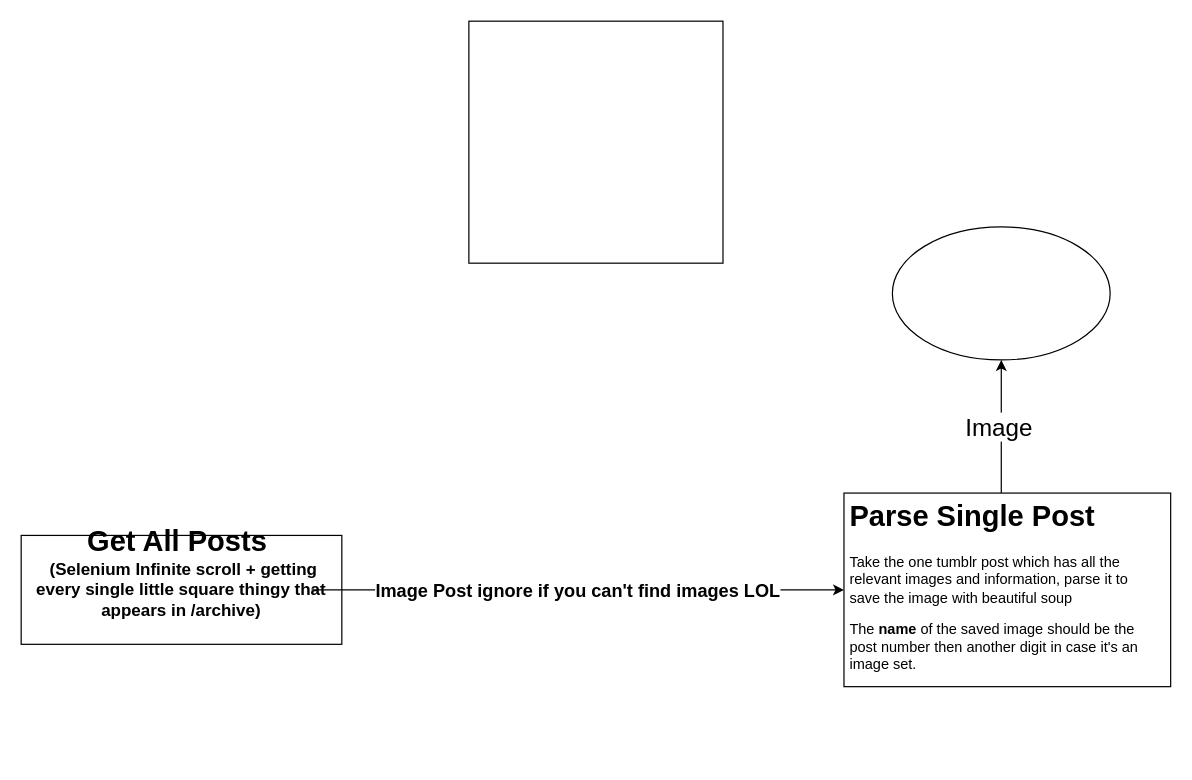
This 1192x780 diagram has some shape labels left out. Here are the shapes that lost their labels. From the top down, the centre of each, then its label:
At point 595,141: "Note: Applying for a tumblr API token would be super annoying".
At point 1000,293: "Saved Images Folder".
